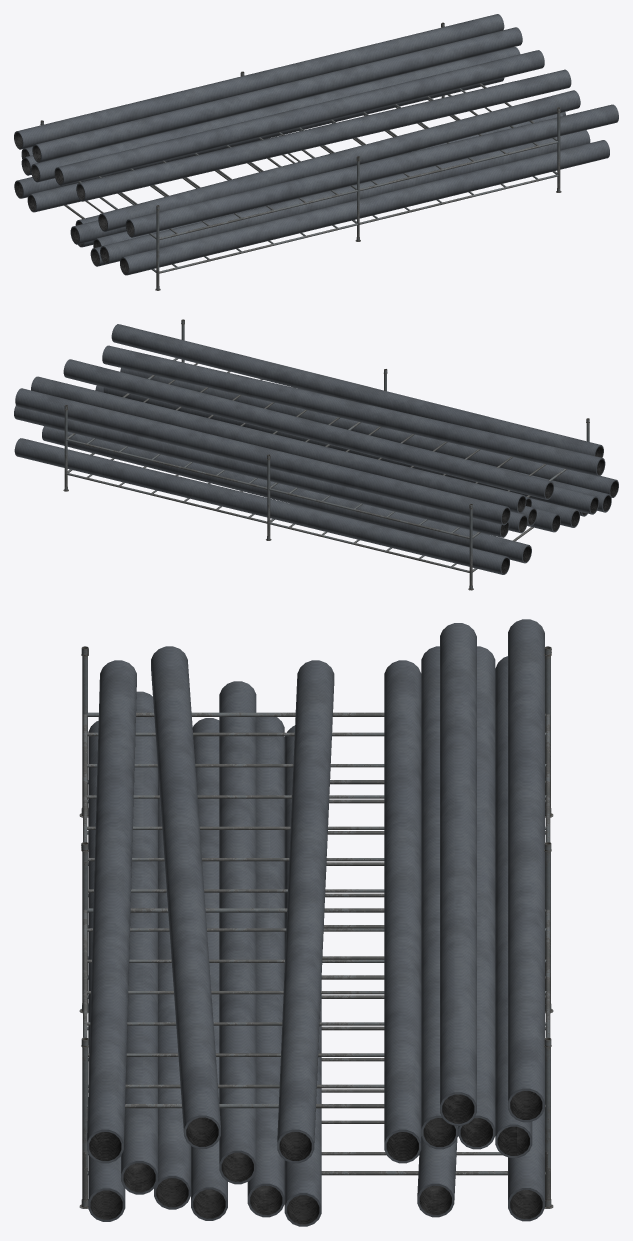
The model's file is SM_DrainPipe_2_Stack.fbx.
3 renders of one model, top to bottom at view 1: azimuth 30°, elevation 25°; view 2: azimuth 150°, elevation 25°; view 3: azimuth 270°, elevation 25°, orthographic. The views are drawn at different scales.
Parts seen in each view (by area): view 1: SM_DrainPipe_2_Stack_LOD0; view 2: SM_DrainPipe_2_Stack_LOD0; view 3: SM_DrainPipe_2_Stack_LOD0.
Boxes of the visible parts, x1,y1,x2,y2 form: SM_DrainPipe_2_Stack_LOD0: (14, 14, 618, 290); SM_DrainPipe_2_Stack_LOD0: (14, 319, 618, 590); SM_DrainPipe_2_Stack_LOD0: (79, 619, 553, 1226).
Size of the model in its own units: 1263 by 512 by 200.
1 material, 1 textured.
